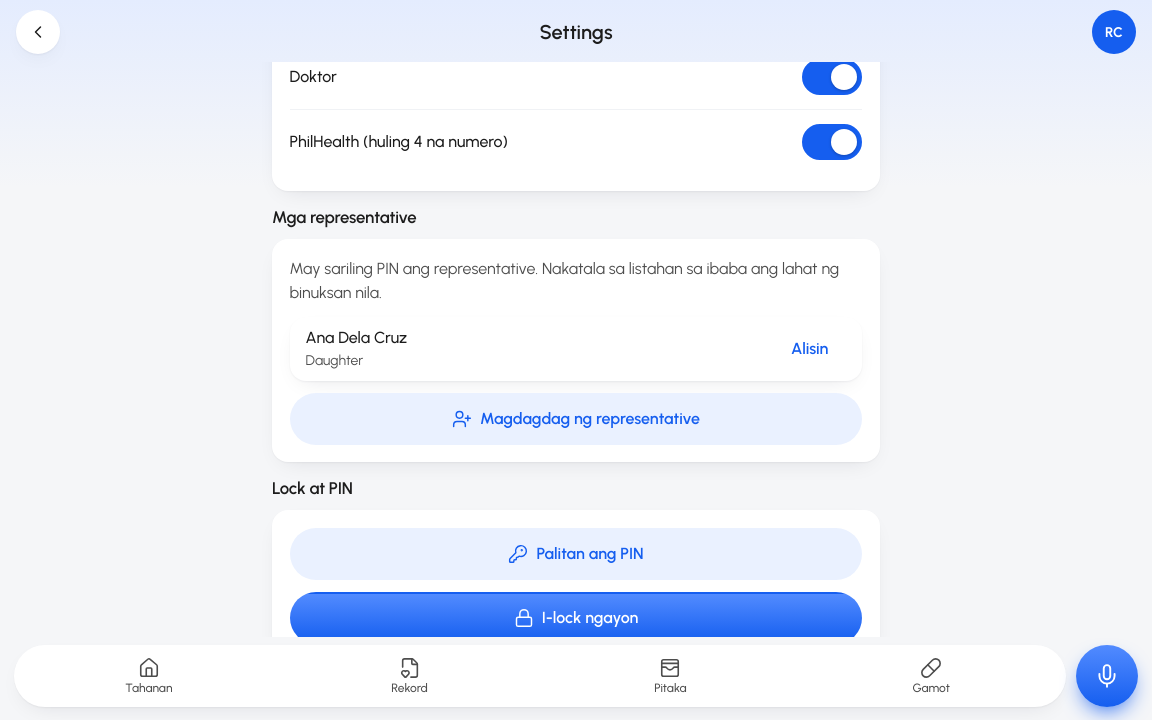
Test: settings › removing a representative asks for confirmation and then toasts
(page scrolled)
Click the button "Alisin". click: (810, 349)
box: [765, 325, 854, 373]
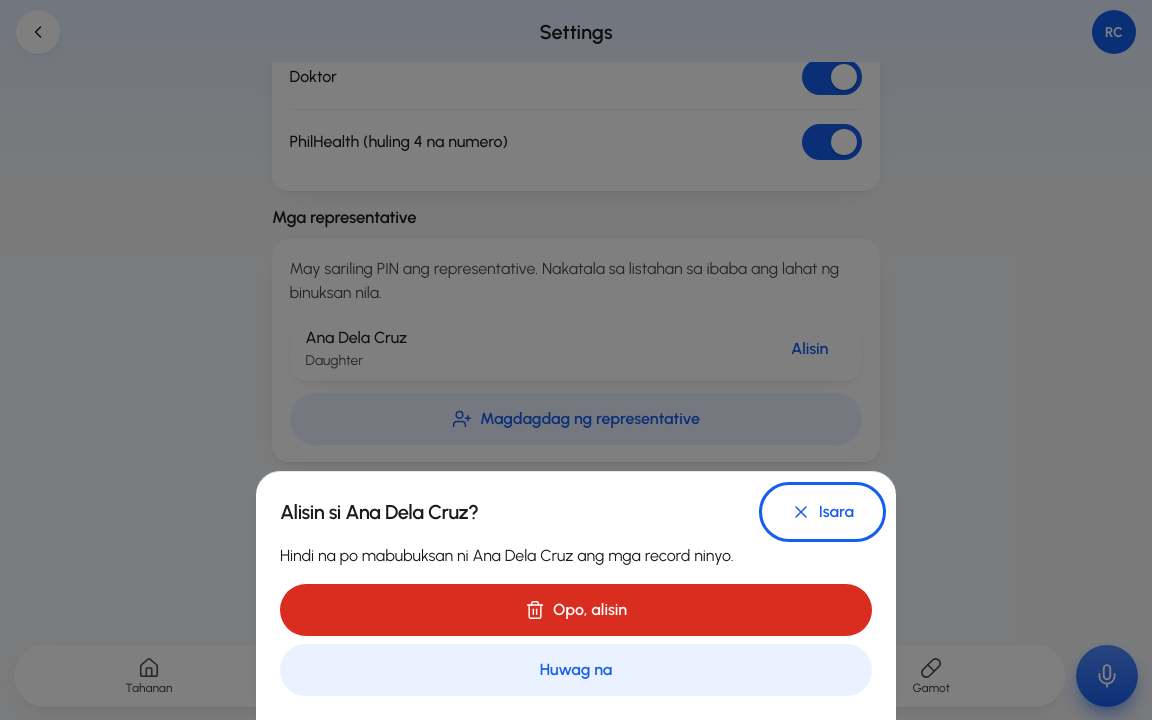
Click the button "Opo, alisin". click: (576, 610)
box: [280, 584, 872, 636]
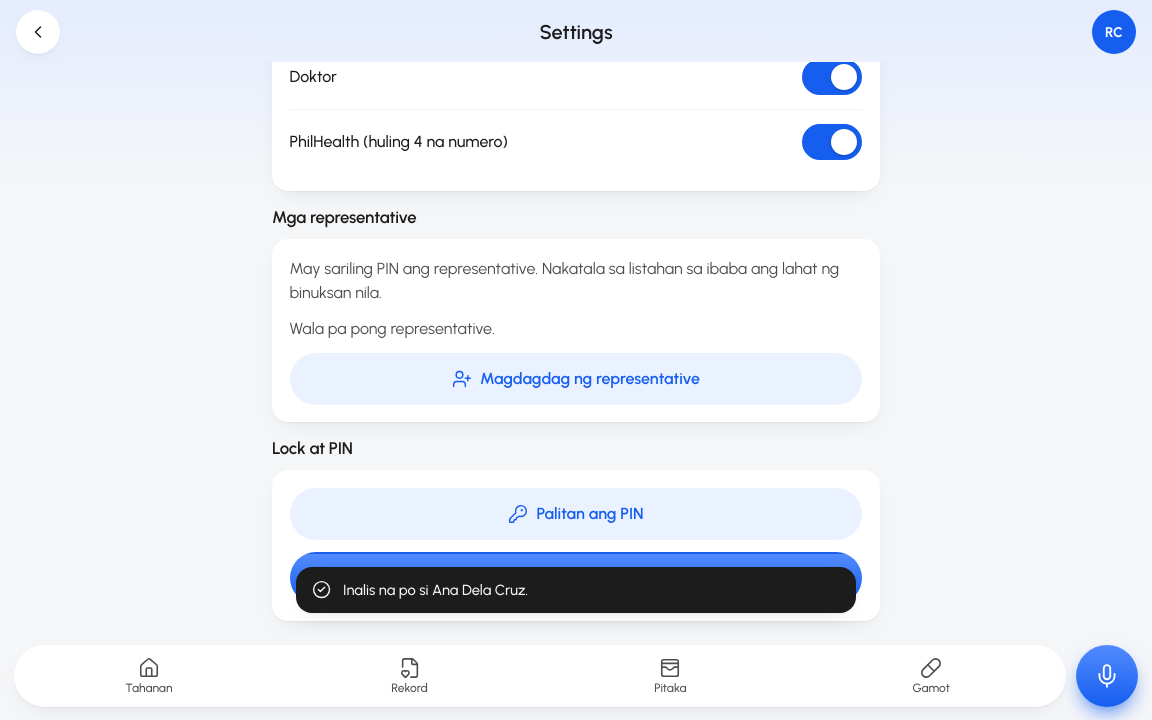
Expected: the text "Inalis na po si Ana Dela Cruz." is shown, [343, 581, 528, 599]
